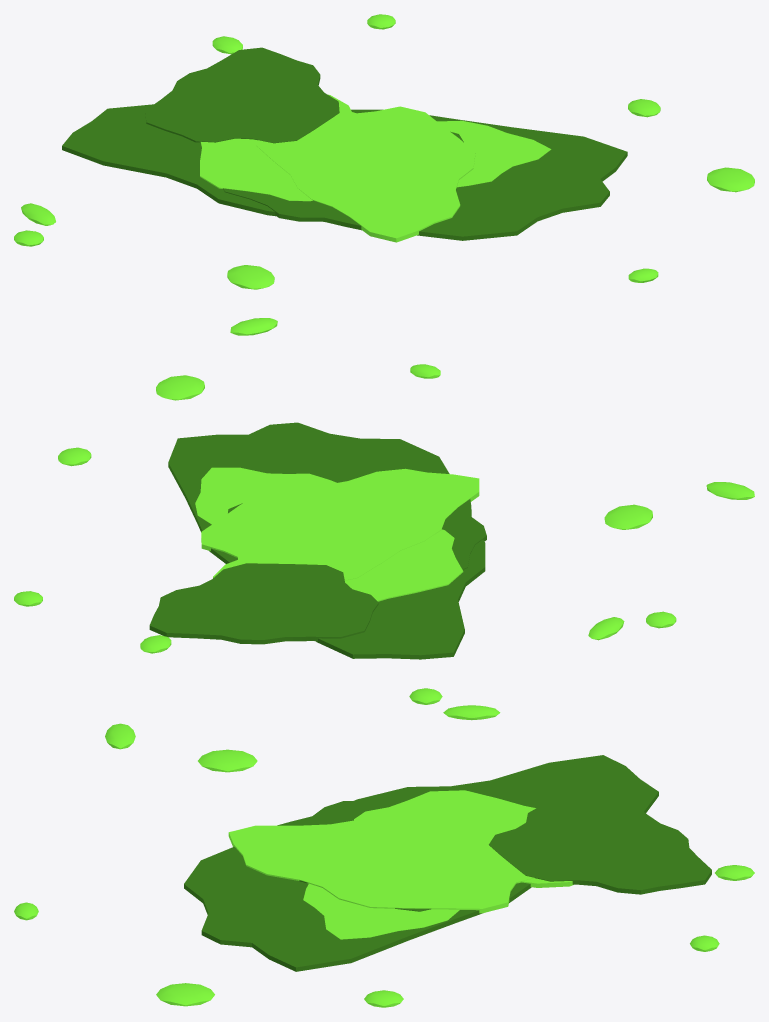
File: SM_80s_Slime_B.glb
3 renders of one model, top to bottom at view 1: azimuth 30°, elevation 25°; view 2: azimuth 150°, elevation 25°; view 3: azimuth 270°, elevation 25°, orthographic. The views are drawn at different scales.
Visible parts, largest first — view 1: SM_80s_Slime_B; view 2: SM_80s_Slime_B; view 3: SM_80s_Slime_B.
Boxes of the visible parts, <box> form: SM_80s_Slime_B: <box>14,14,754,335</box>; SM_80s_Slime_B: <box>14,364,754,659</box>; SM_80s_Slime_B: <box>14,688,754,1007</box>.
Bounding box in the file's own units: 1.22 × 0.018 × 1.21.
